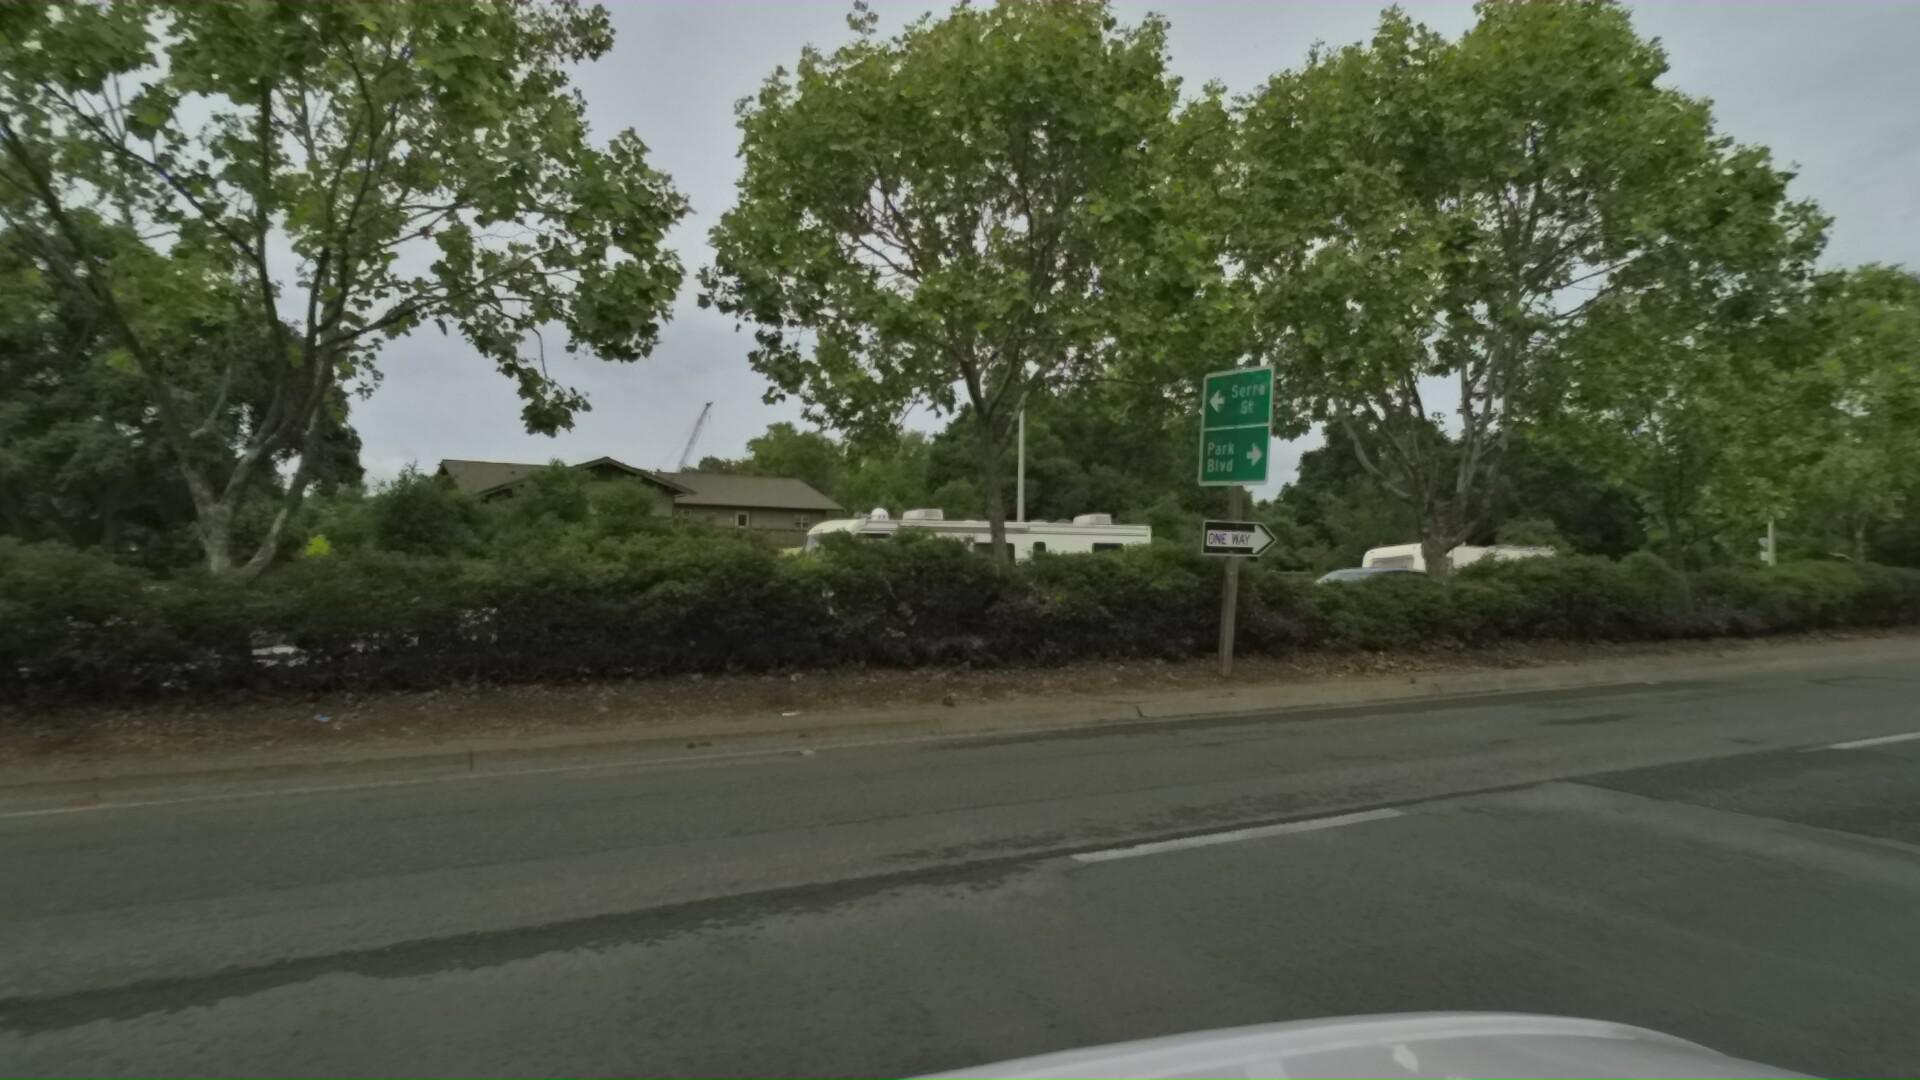car: (1240, 564, 1462, 637), (1911, 575, 1920, 608)
other_vehicle: (741, 485, 1153, 654), (1327, 531, 1560, 626)
